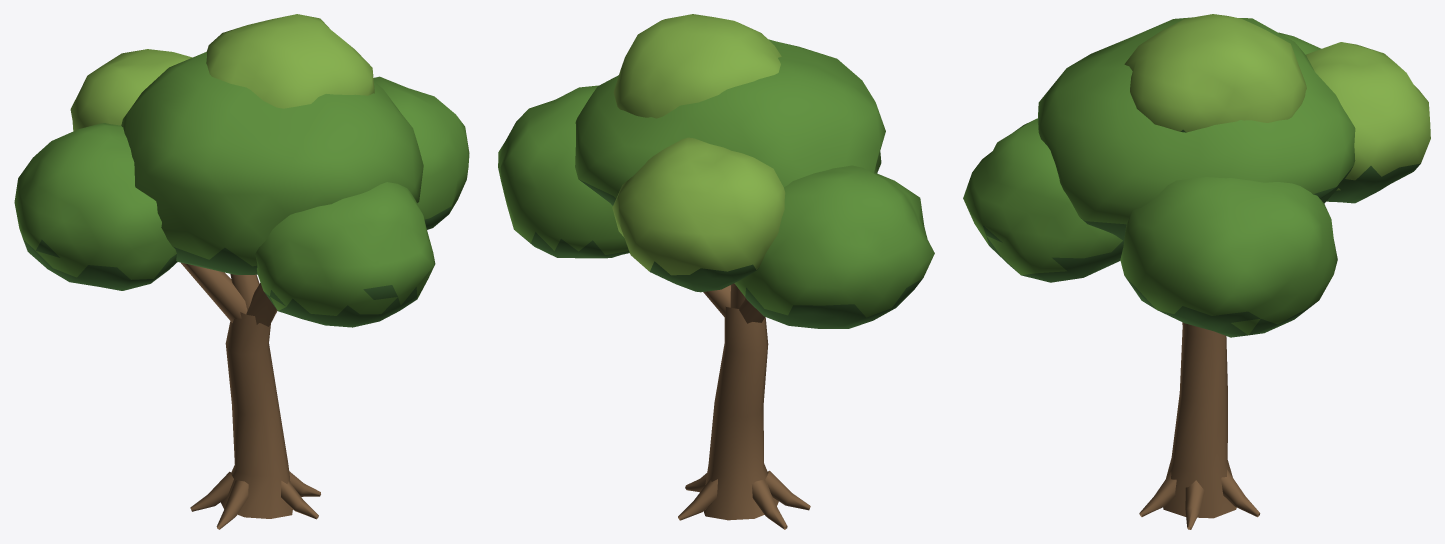
The model's file is tree_big.glb.
The picture shows the model from 3 angles, left to right: view 1: azimuth 30°, elevation 25°; view 2: azimuth 150°, elevation 25°; view 3: azimuth 270°, elevation 25°; orthographic projection. The views are drawn at different scales.
Visible parts, largest first — view 1: tree_big_mesh; view 2: tree_big_mesh; view 3: tree_big_mesh.
Part boxes in pixels (x1,y1,x2,y2): tree_big_mesh: (14,14,469,529); tree_big_mesh: (498,14,934,529); tree_big_mesh: (963,14,1430,529).
Bounding box in the file's own units: 5.85 × 6.14 × 5.31.
